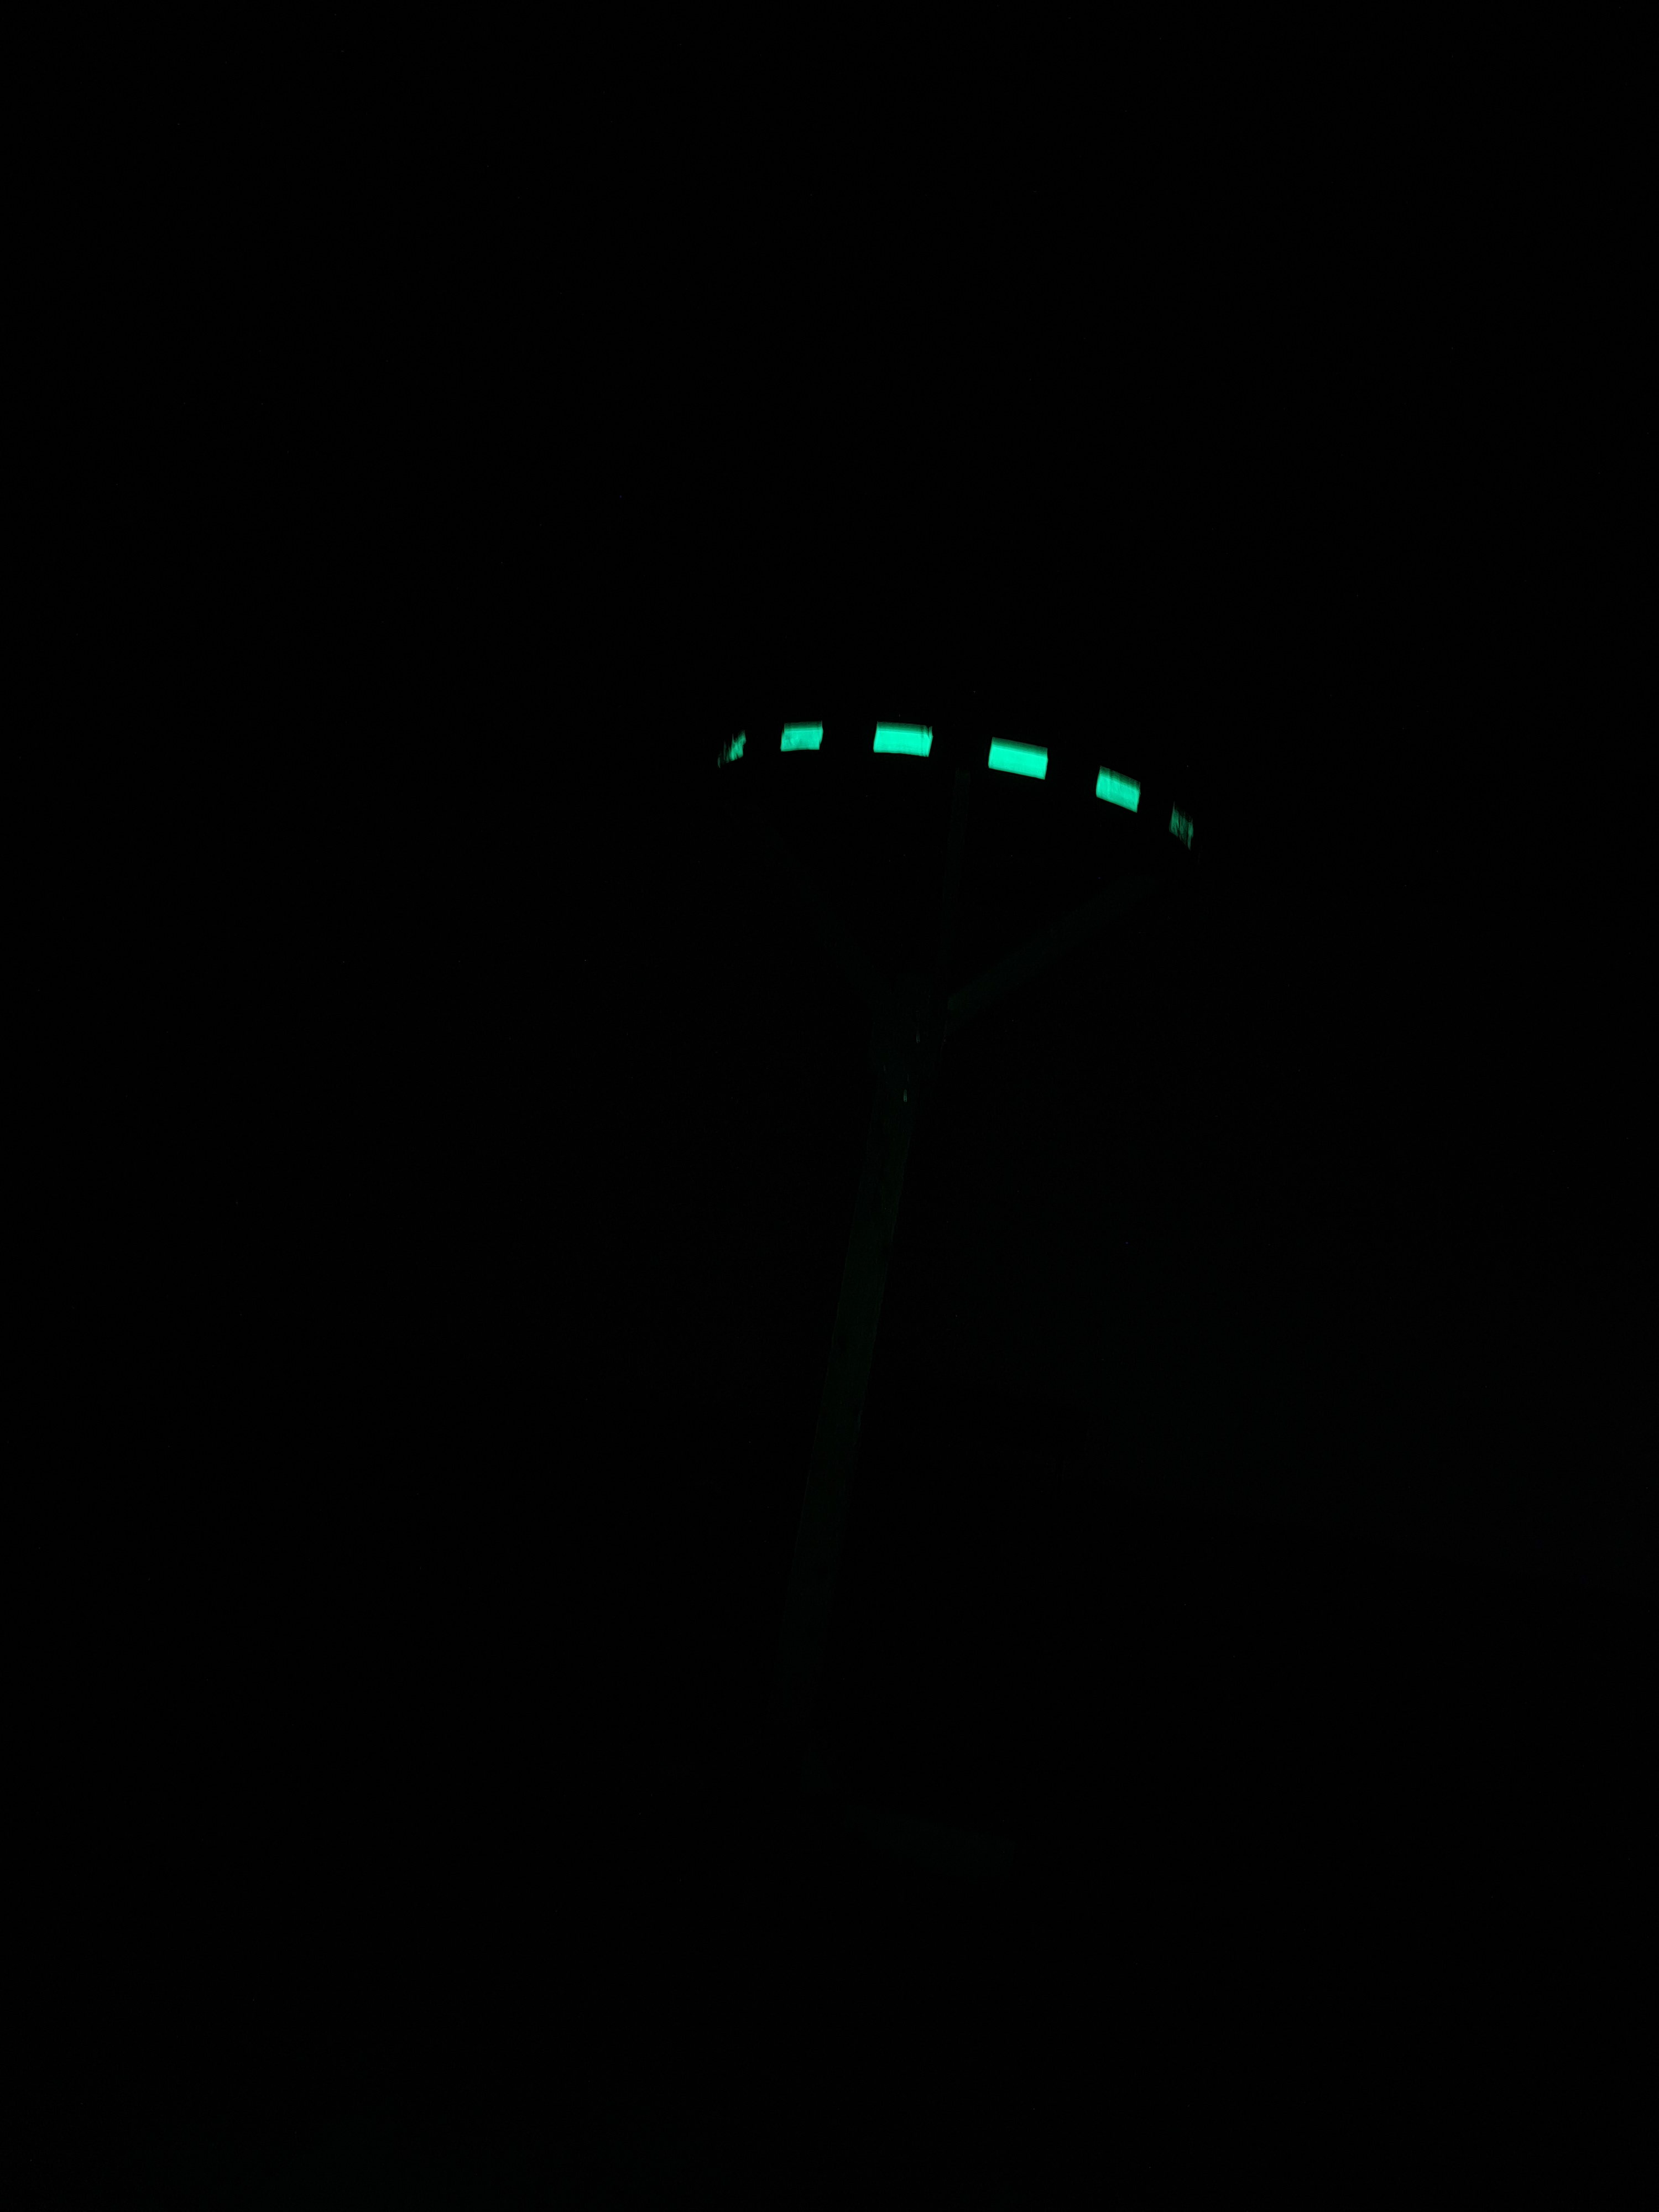hoop: (714, 704, 1204, 864)
